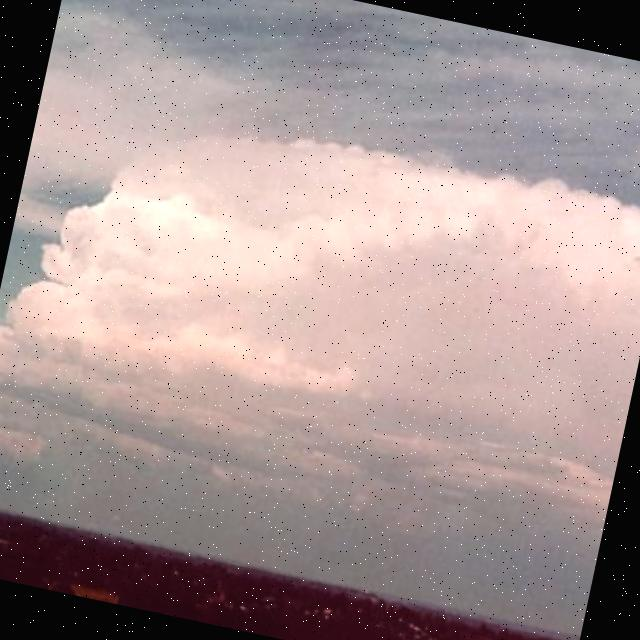Ci: (1, 18, 640, 597)
